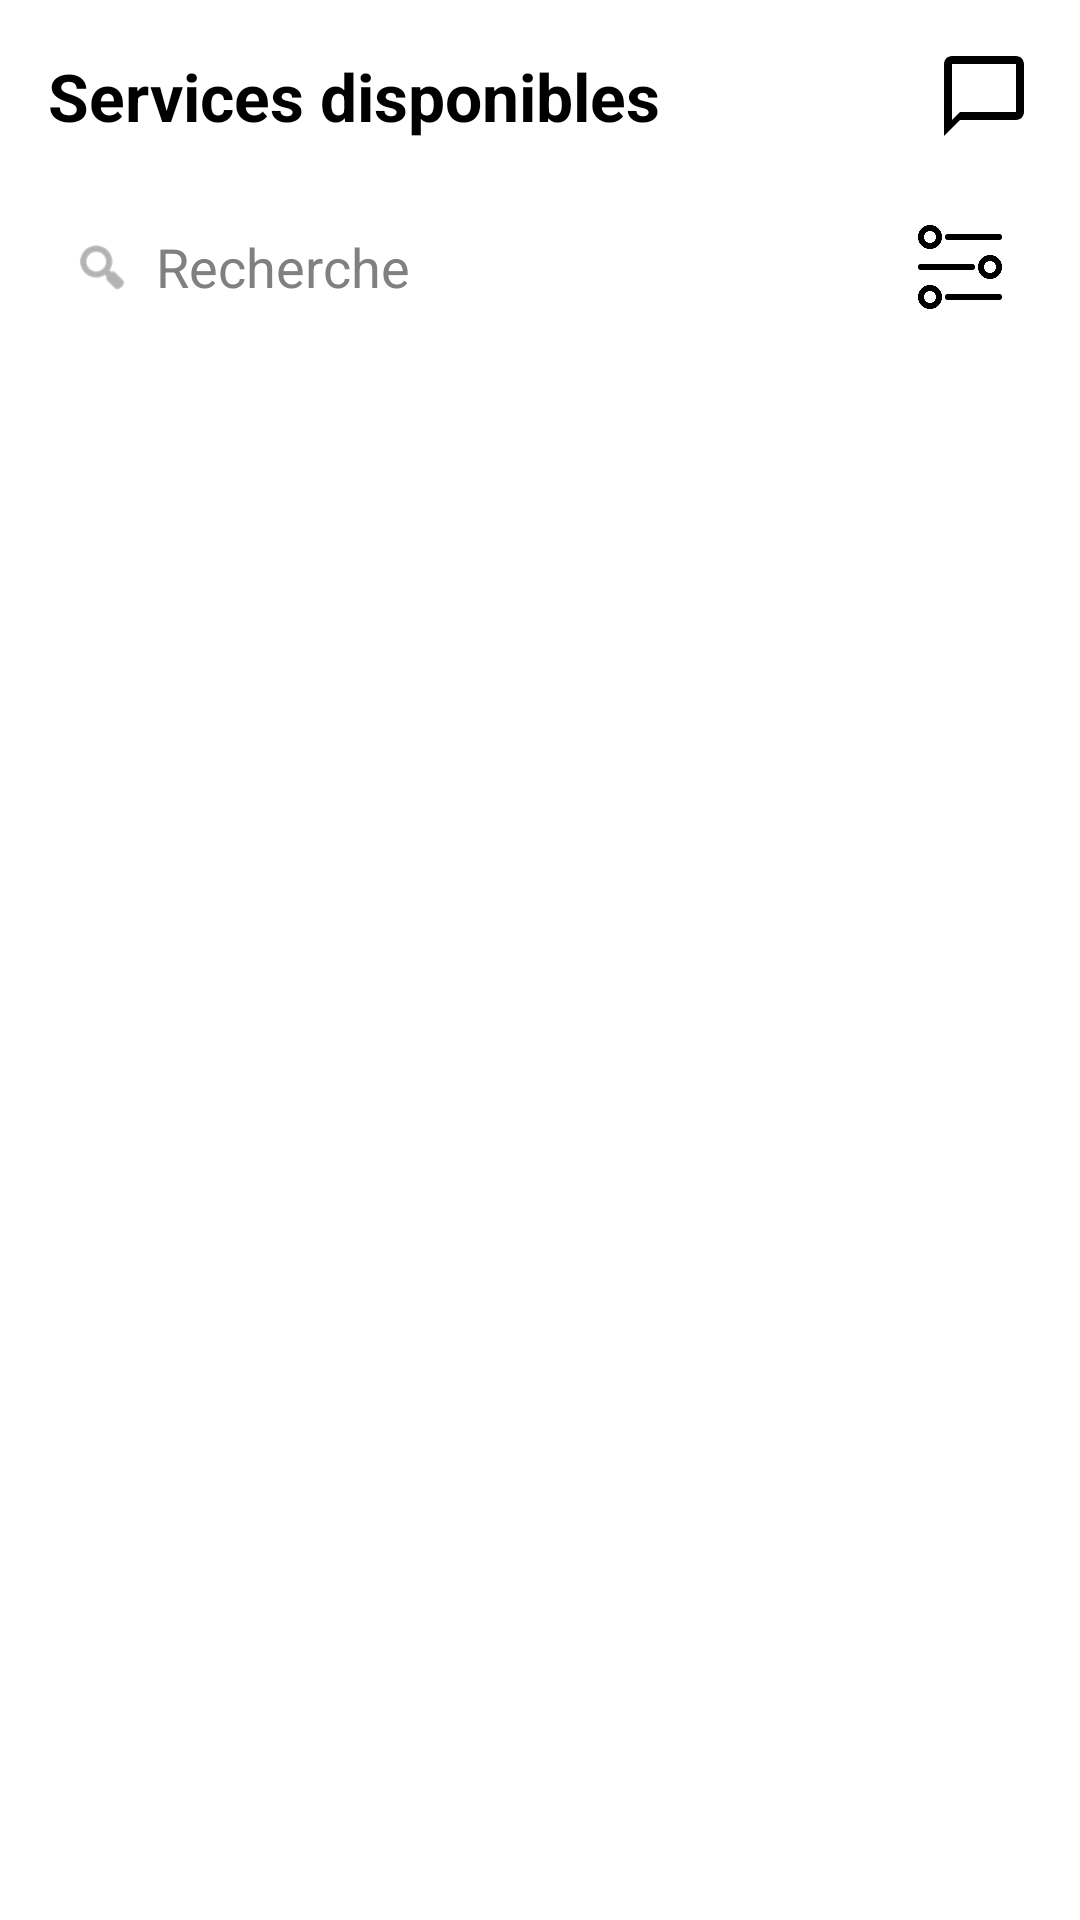

Where icons sit on this 1080×1920 app screen, as (x1, y1, x2, y2):
Filtrer les services: (918, 225, 1002, 309)
Messagerie: (944, 56, 1024, 136)
search: (80, 245, 124, 289)
